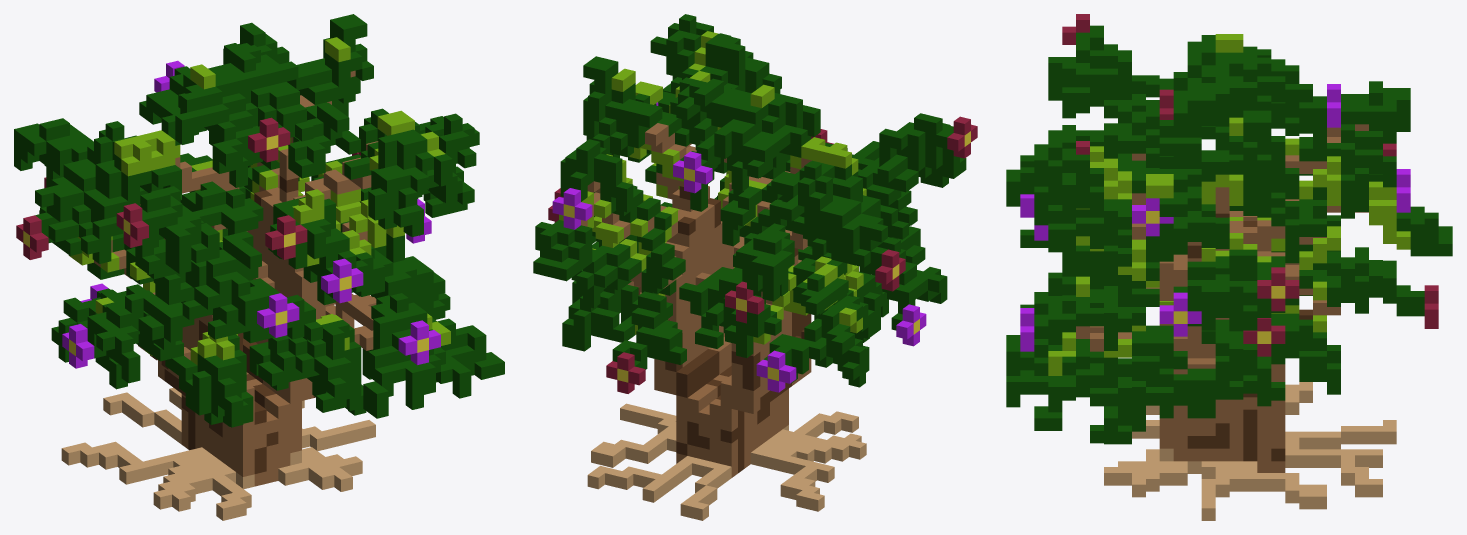
Rendered from Mateo_Sánchez_Ramos_fase_4.obj.
The picture shows the model from 3 angles, left to right: view 1: azimuth 30°, elevation 25°; view 2: azimuth 150°, elevation 25°; view 3: azimuth 270°, elevation 25°; orthographic projection. The views are drawn at different scales.
Visible parts, largest first — view 1: Mateo_Sánchez_Ramos_fase_4; view 2: Mateo_Sánchez_Ramos_fase_4; view 3: Mateo_Sánchez_Ramos_fase_4.
Boxes of the visible parts, left/top/right/bottom form: Mateo_Sánchez_Ramos_fase_4: left=14, top=14, right=504, bottom=520; Mateo_Sánchez_Ramos_fase_4: left=533, top=14, right=977, bottom=520; Mateo_Sánchez_Ramos_fase_4: left=1006, top=14, right=1452, bottom=520.
Bounding box in the file's own units: 31 × 32 × 32.
Materials: 1 (1 with a texture image).
